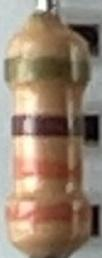Brown: (13, 113, 83, 138)
Orange: (7, 198, 91, 223), (14, 156, 81, 182)
Side-Gold: (4, 57, 89, 86)
